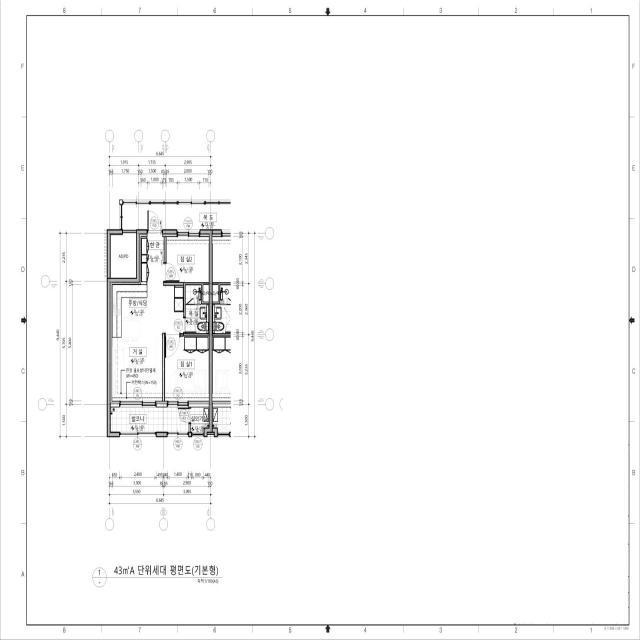space_balconi: (111, 407, 189, 432)
space_bedroom: (165, 336, 209, 403), (166, 234, 209, 282)
space_front: (139, 234, 164, 263)
space_kitchen: (110, 282, 147, 338)
space_living_room: (110, 262, 184, 403)
space_other: (123, 204, 231, 230), (111, 233, 136, 278), (203, 285, 209, 302)
space_outdoor_room: (189, 407, 209, 433)
space_toilet: (185, 285, 209, 333)
